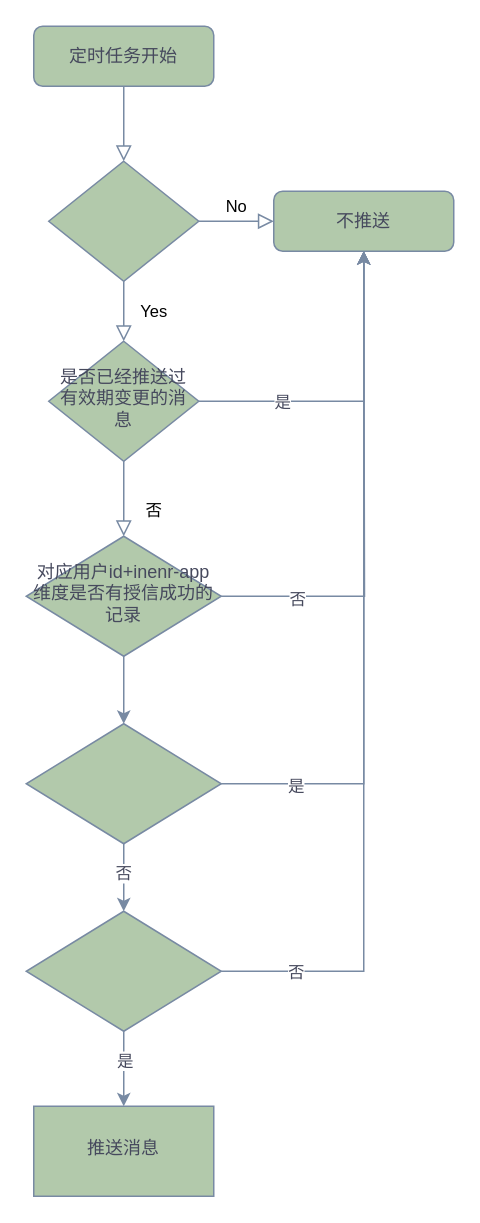
The diagram is 480 pixels wide and 1223 high, and some of its shapes have lost their labels. The shapes that lost their labels are listed below. From the top down, each one's centre as x and y in pixels, then its label:
At [123,220]: "额度是否过期".
At [123,783]: "客户号维度是否有放款成功的记录".
At [123,970]: "该渠道是否需要推送消息".
